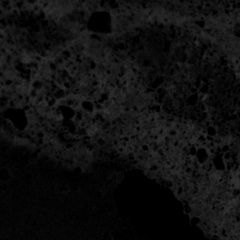Vegetation: (8, 48, 150, 117), (128, 118, 240, 176), (135, 2, 240, 38), (186, 180, 240, 222), (36, 117, 66, 151)
